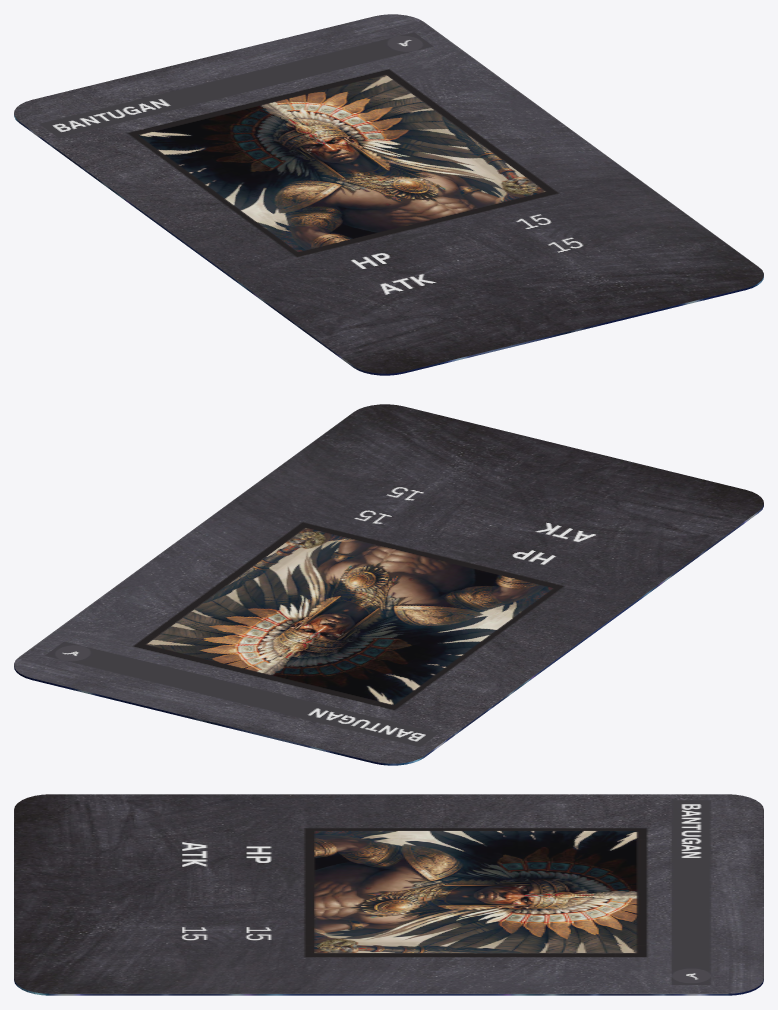
Rendered from Bantugan(Disappear).glb.
3 views of the same model, one above another, from view 1: azimuth 30°, elevation 25°; view 2: azimuth 150°, elevation 25°; view 3: azimuth 270°, elevation 25° (orthographic).
Visible parts, largest first — view 1: Card; view 2: Card; view 3: Card.
Part boxes in pixels (x1,y1,x2,y2): Card: [14, 14, 763, 375]; Card: [14, 404, 763, 765]; Card: [14, 794, 763, 995].
Bounding box in the file's own units: 0.056 × 0.00024 × 0.0889.
2 materials, 2 textured.
